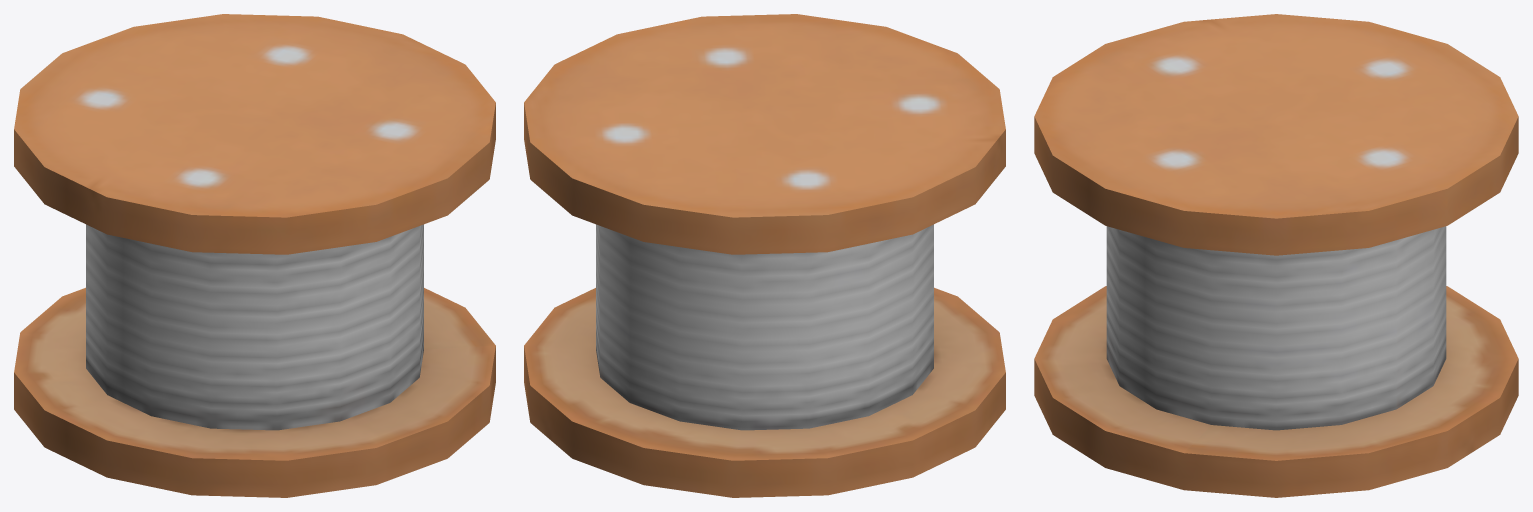
The model's file is Pfb_CableReel.fbx.
3 renders of one model, left to right at view 1: azimuth 30°, elevation 25°; view 2: azimuth 150°, elevation 25°; view 3: azimuth 270°, elevation 25°, orthographic.
Visible parts, largest first — view 1: Mat_CementMold_1; view 2: Mat_CementMold_1; view 3: Mat_CementMold_1.
Boxes of the visible parts, box(x1,y1,x2,y2) form: Mat_CementMold_1: box(14, 14, 495, 497); Mat_CementMold_1: box(524, 14, 1005, 497); Mat_CementMold_1: box(1034, 14, 1518, 497).
Bounding box in the file's own units: 1.47 × 0.9376 × 1.47.
1 material, 1 textured.
